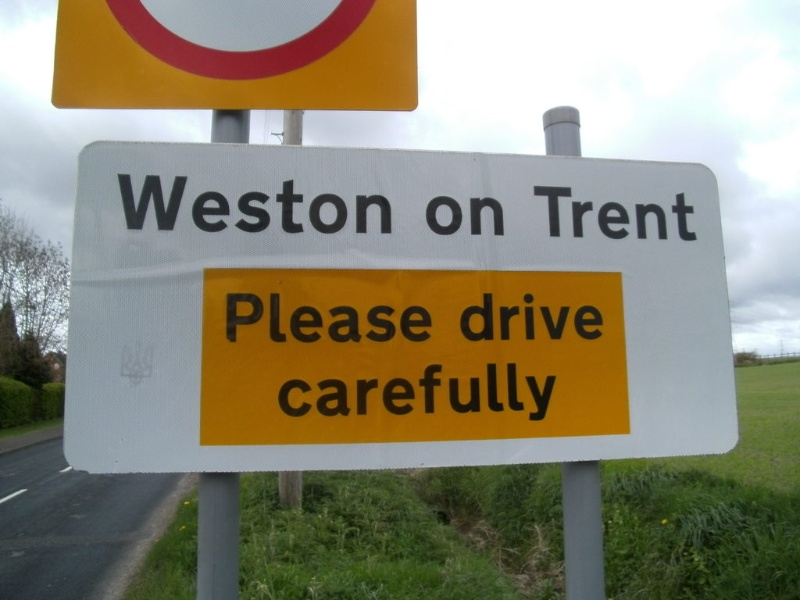drive_carefully: (75, 141, 735, 463)
